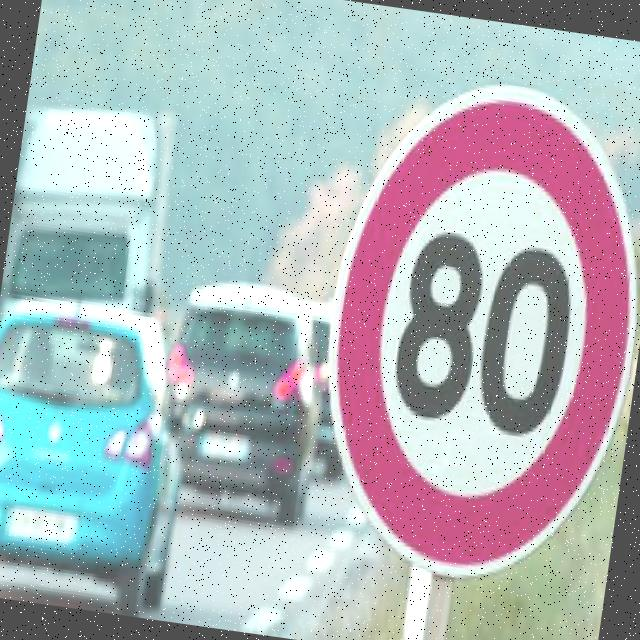Ograniczenie predkosci do 80: (352, 130, 624, 540)
